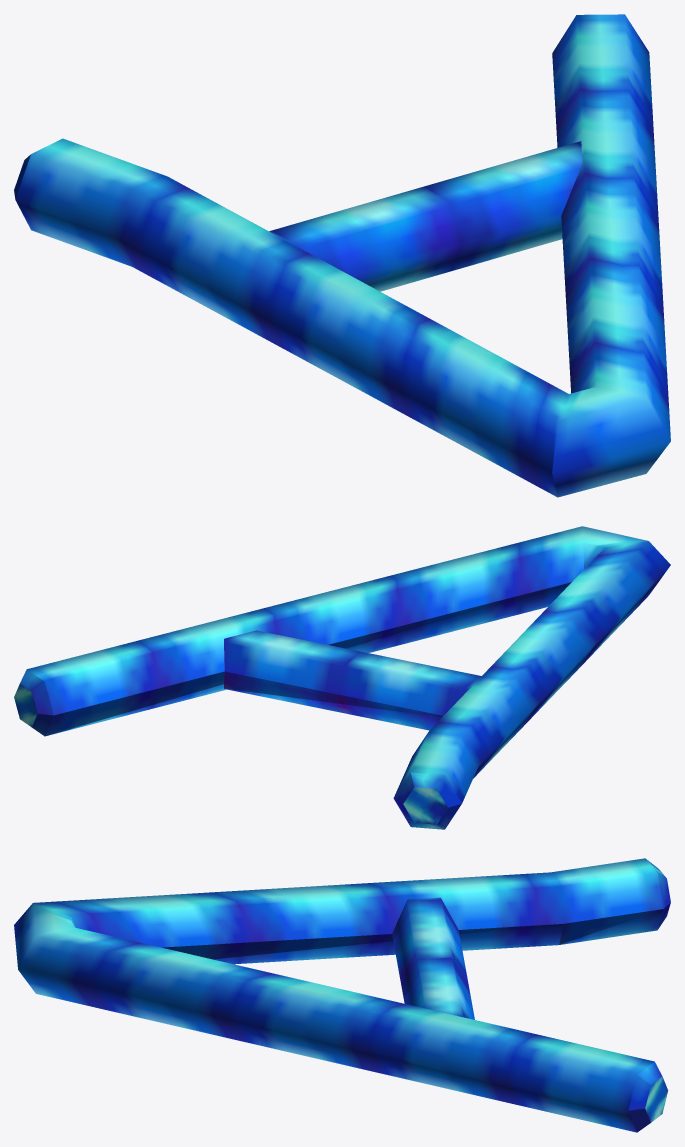
The model's file is furni_0200448.FBX.
The picture shows the model from 3 angles, top to bottom: view 1: azimuth 30°, elevation 25°; view 2: azimuth 150°, elevation 25°; view 3: azimuth 270°, elevation 25°; orthographic projection. The views are drawn at different scales.
Parts seen in each view (by area): view 1: furni_0200448; view 2: furni_0200448; view 3: furni_0200448.
Boxes of the visible parts, box(x1,y1,x2,y2) form: furni_0200448: box(14, 14, 670, 497); furni_0200448: box(14, 526, 670, 829); furni_0200448: box(14, 858, 670, 1132).
Bounding box in the file's own units: 43.96 × 5.11 × 52.84.
Materials: 1 (1 with a texture image).
